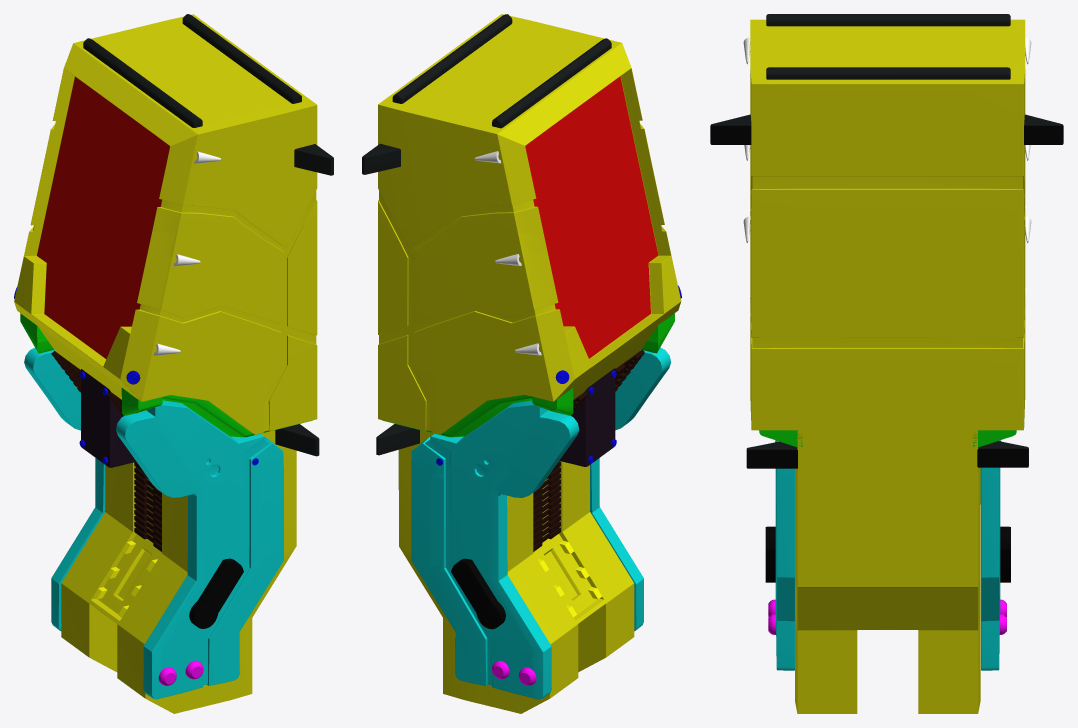
The model's file is Trap_Door_Console.fbx.
3 views of the same model, side by side, from view 1: azimuth 30°, elevation 25°; view 2: azimuth 150°, elevation 25°; view 3: azimuth 270°, elevation 25° (orthographic). The views are drawn at different scales.
Parts seen in each view (by area): view 1: Trap_Door_Console; view 2: Trap_Door_Console; view 3: Trap_Door_Console.
Part boxes in pixels (x1,y1,x2,y2): Trap_Door_Console: (14, 14, 333, 713); Trap_Door_Console: (362, 14, 681, 713); Trap_Door_Console: (710, 14, 1063, 713).
Bounding box in the file's own units: 23.15 × 70.65 × 34.08.
